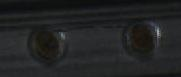joints: (26, 24, 69, 66), (120, 19, 161, 59)
